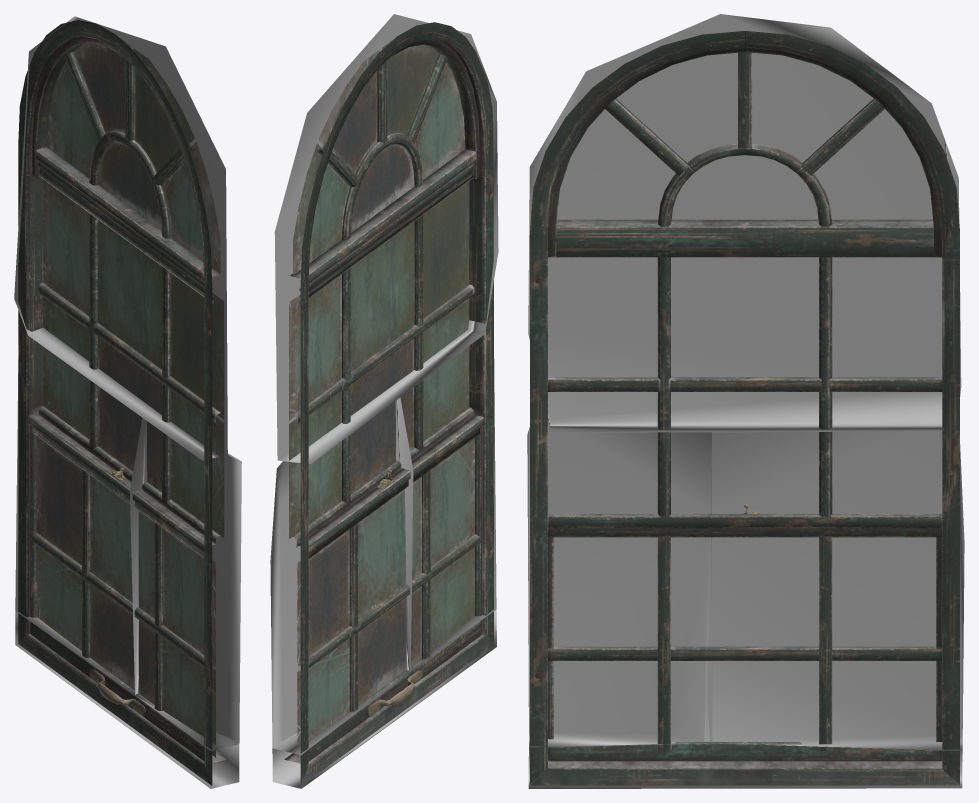
The model's file is SM_Window_Frame.gltf.
3 renders of one model, left to right at view 1: azimuth 30°, elevation 25°; view 2: azimuth 150°, elevation 25°; view 3: azimuth 270°, elevation 25°, orthographic. The views are drawn at different scales.
Visible parts, largest first — view 1: SM_Window_Frame_LOD0, SM_Window_Frame_ConvexHulls; view 2: SM_Window_Frame_LOD0, SM_Window_Frame_ConvexHulls; view 3: SM_Window_Frame_ConvexHulls, SM_Window_Frame_LOD0.
Boxes of the visible parts, x1,y1,x2,y2 form: SM_Window_Frame_LOD0: [18, 20, 228, 785]; SM_Window_Frame_ConvexHulls: [14, 16, 241, 788]; SM_Window_Frame_LOD0: [284, 22, 493, 785]; SM_Window_Frame_ConvexHulls: [270, 14, 498, 788]; SM_Window_Frame_ConvexHulls: [527, 14, 964, 788]; SM_Window_Frame_LOD0: [530, 31, 959, 785].
Size of what is drawn, in the model's own units: 0.1858 by 3.25 by 1.69.
